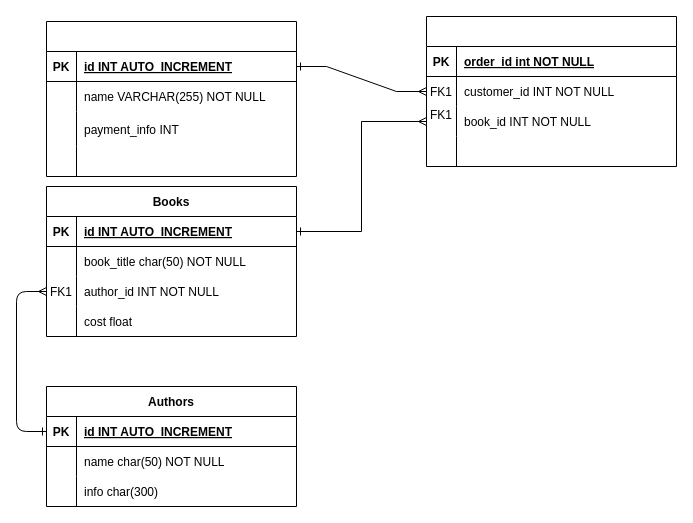
The diagram is 693 pixels wide and 523 high, and some of its shapes have lost their labels. The box of each missing label's shape, as (x1, y1, x2, y2) in pixels:
Customer: (46, 20, 296, 176)
Orders: (426, 16, 676, 166)
